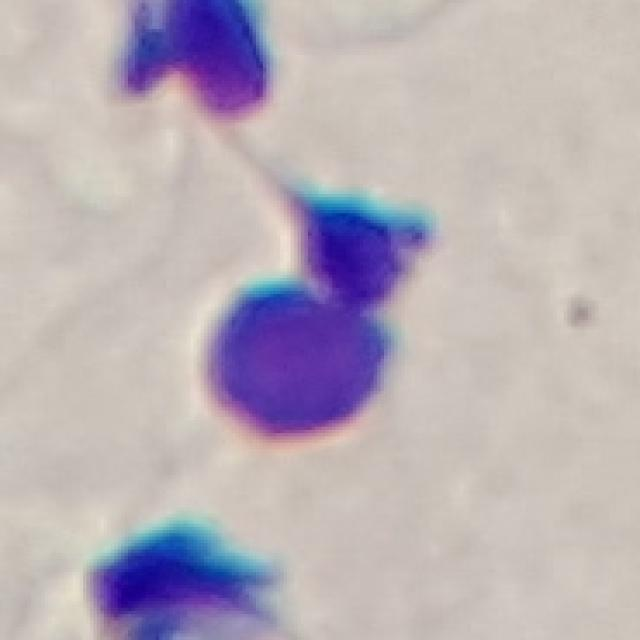non-sperm: (198, 194, 430, 446)
